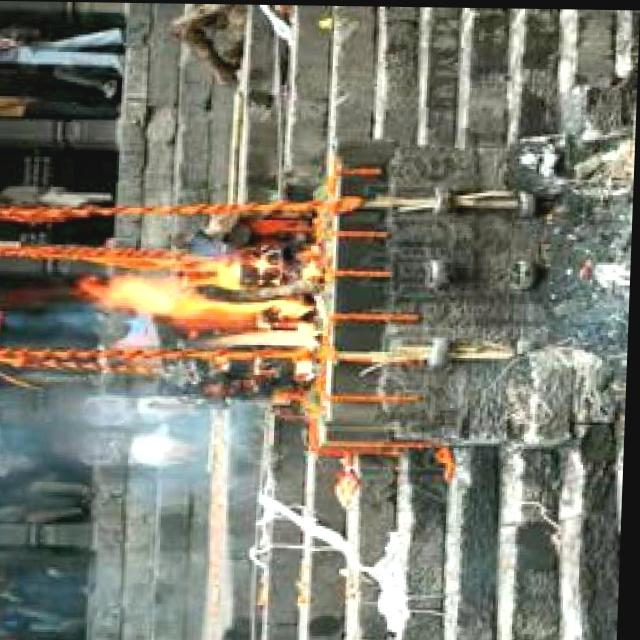helmet: (87, 249, 326, 353)
